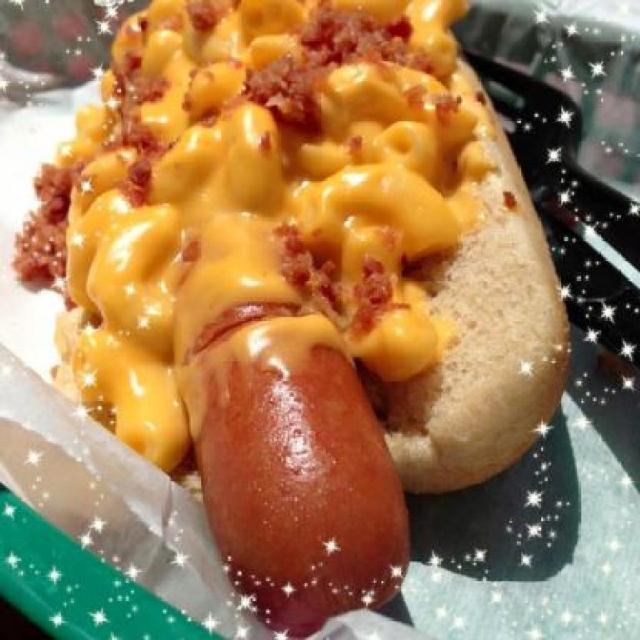hot dog: (167, 291, 428, 623)
macaroni and cheese: (52, 2, 480, 444)
